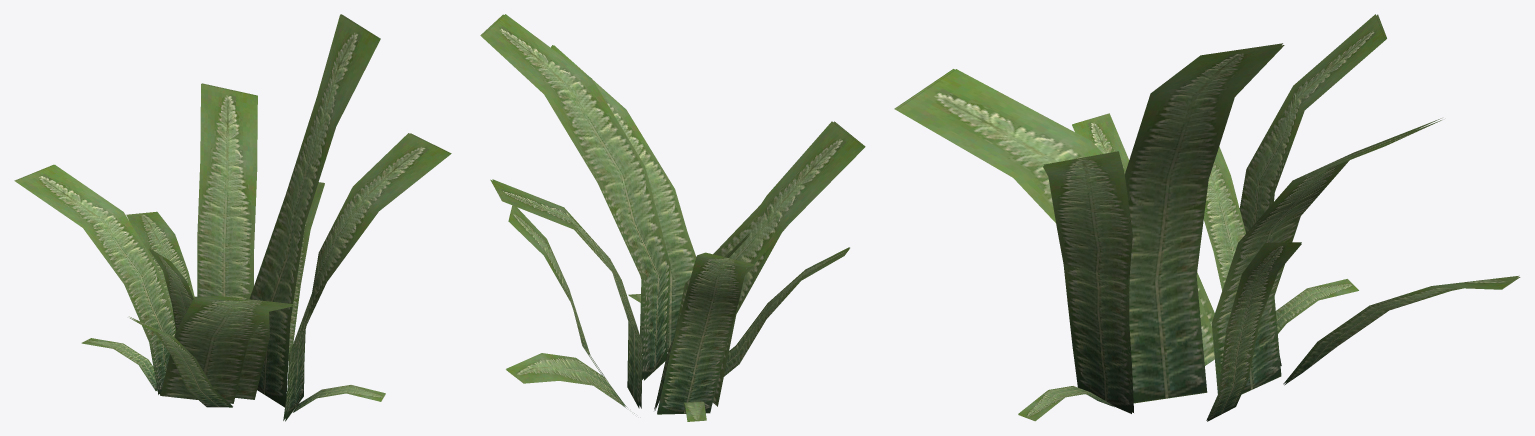
The model's file is frst_fern_green_longleaf_sm_l0.fbx.
3 renders of one model, left to right at view 1: azimuth 30°, elevation 25°; view 2: azimuth 150°, elevation 25°; view 3: azimuth 270°, elevation 25°, orthographic. The views are drawn at different scales.
Parts seen in each view (by area): view 1: mesh_node; view 2: mesh_node; view 3: mesh_node.
Boxes of the visible parts, box(x1,y1,x2,y2) form: mesh_node: box(14, 14, 451, 421); mesh_node: box(480, 14, 865, 421); mesh_node: box(894, 14, 1520, 421).
Bounding box in the file's own units: 2.48 × 2.43 × 3.16.
